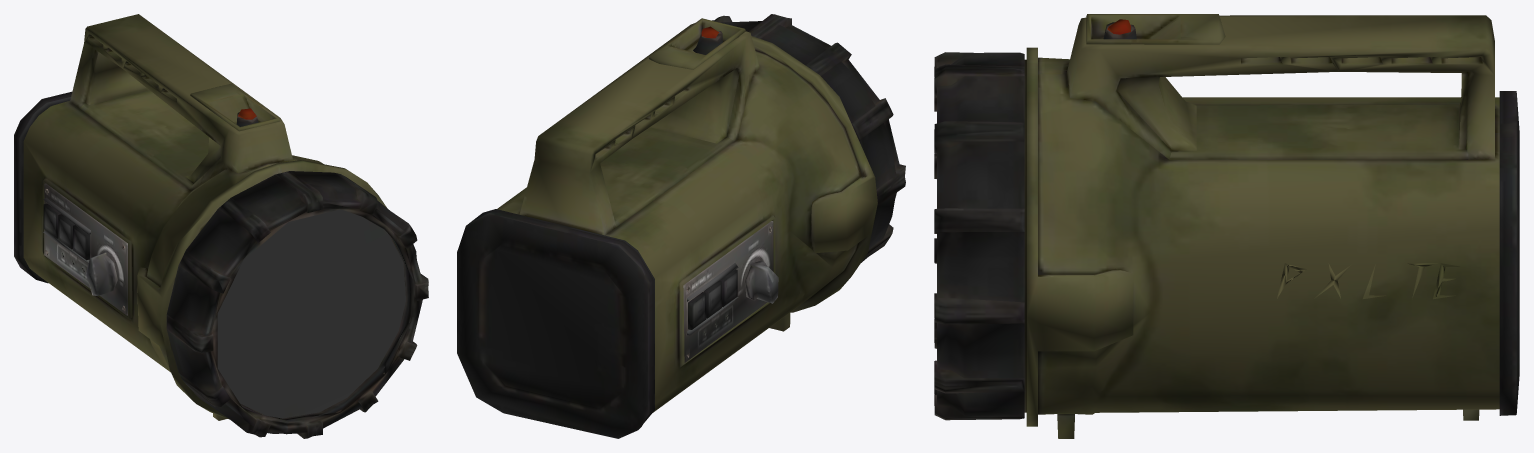
File: portable_searchlight.glb
The picture shows the model from 3 angles, left to right: view 1: azimuth 30°, elevation 25°; view 2: azimuth 150°, elevation 25°; view 3: azimuth 270°, elevation 25°; orthographic projection. The views are drawn at different scales.
Parts seen in each view (by area): view 1: portable_searchlight; view 2: portable_searchlight; view 3: portable_searchlight.
Boxes of the visible parts, x1,y1,x2,y2 form: portable_searchlight: (14, 14, 428, 438); portable_searchlight: (457, 14, 905, 438); portable_searchlight: (934, 14, 1519, 438).
Size of the model in its own units: 0.1653 by 0.1849 by 0.2534.
2 materials, 2 textured.
